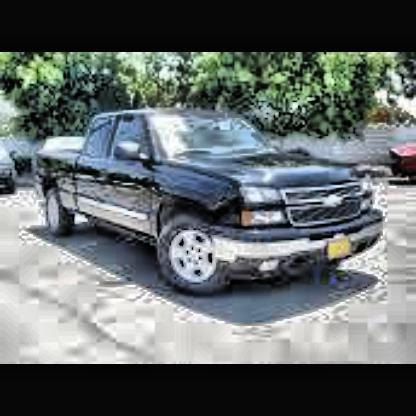Chevrolet Silverado 1500 Classic Extended Cab 2007: (32, 101, 394, 304)
